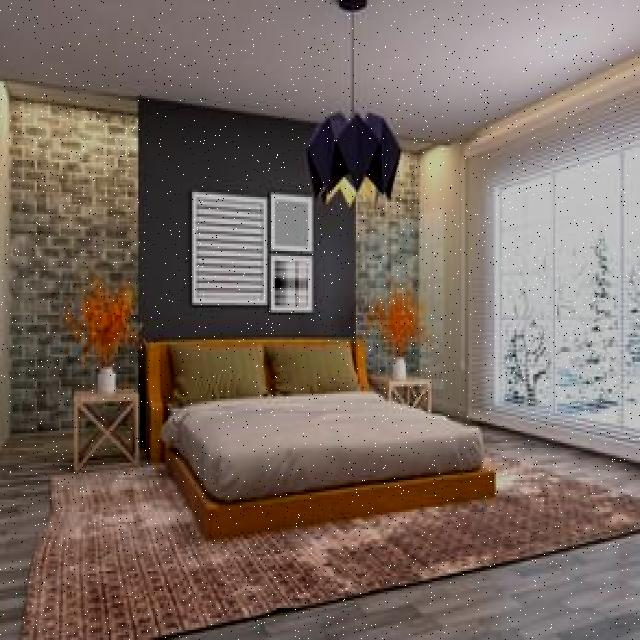bed: (151, 337, 476, 504)
